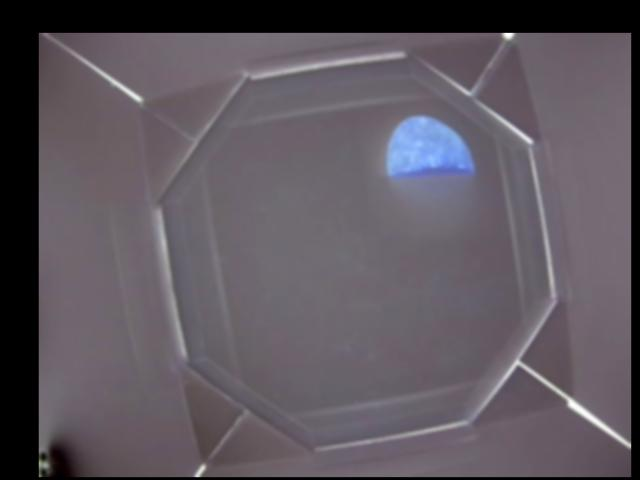Potato: (387, 116, 475, 180)
